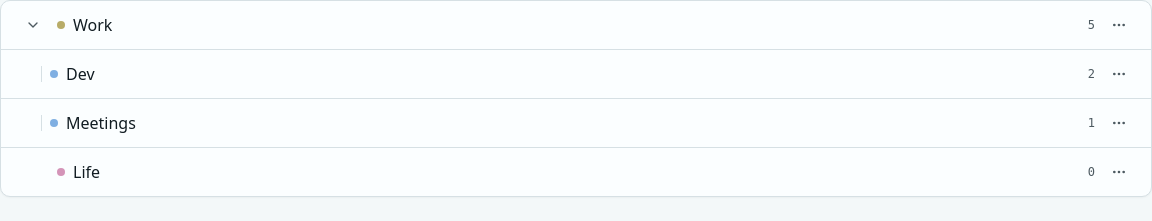
Test: HierarchicalListCard 行操作 ⋯ 菜单 › 打开菜单：活动父级显示 添加子项/编辑/归档/删除；子行不显示添加子项
Expected: the text "Work" is shown, [73,14,112,36]
Click the button named "More actions" in the row of "Work" at (1119, 25), box [1103,9,1135,41]
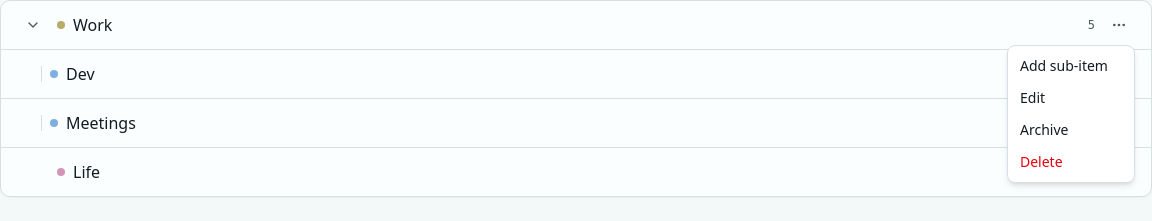
Expected: the menu items read "Add sub-item", "Edit", "Archive", "Delete", in this order, [1020,56,1108,75]; [1020,88,1045,107]; [1020,120,1068,139]; [1020,152,1063,171]
Press Escape
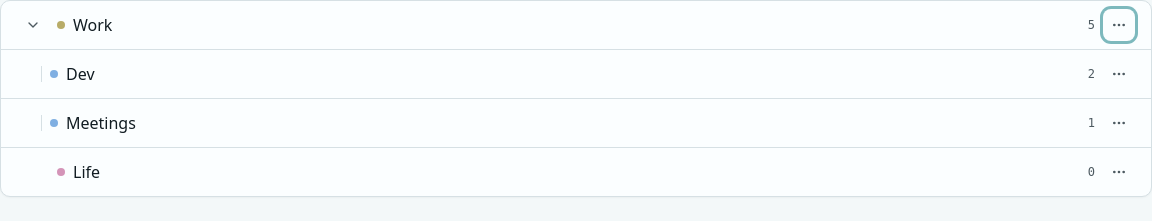
Expected: the text "Dev" is shown, [66,63,94,85]
Click the button named "More actions" in the row of "Dev" at (1119, 74), box [1103,58,1135,90]
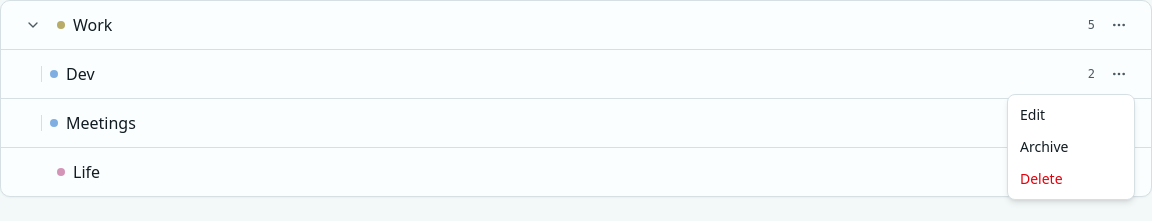
Expected: the menu item "Add sub-item" is not shown
Expected: the menu items read "Edit", "Archive", "Delete", in this order, [1020,105,1045,124]; [1020,137,1068,156]; [1020,169,1063,188]
